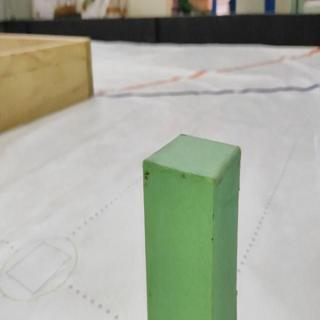greenbox: (141, 130, 244, 320)
